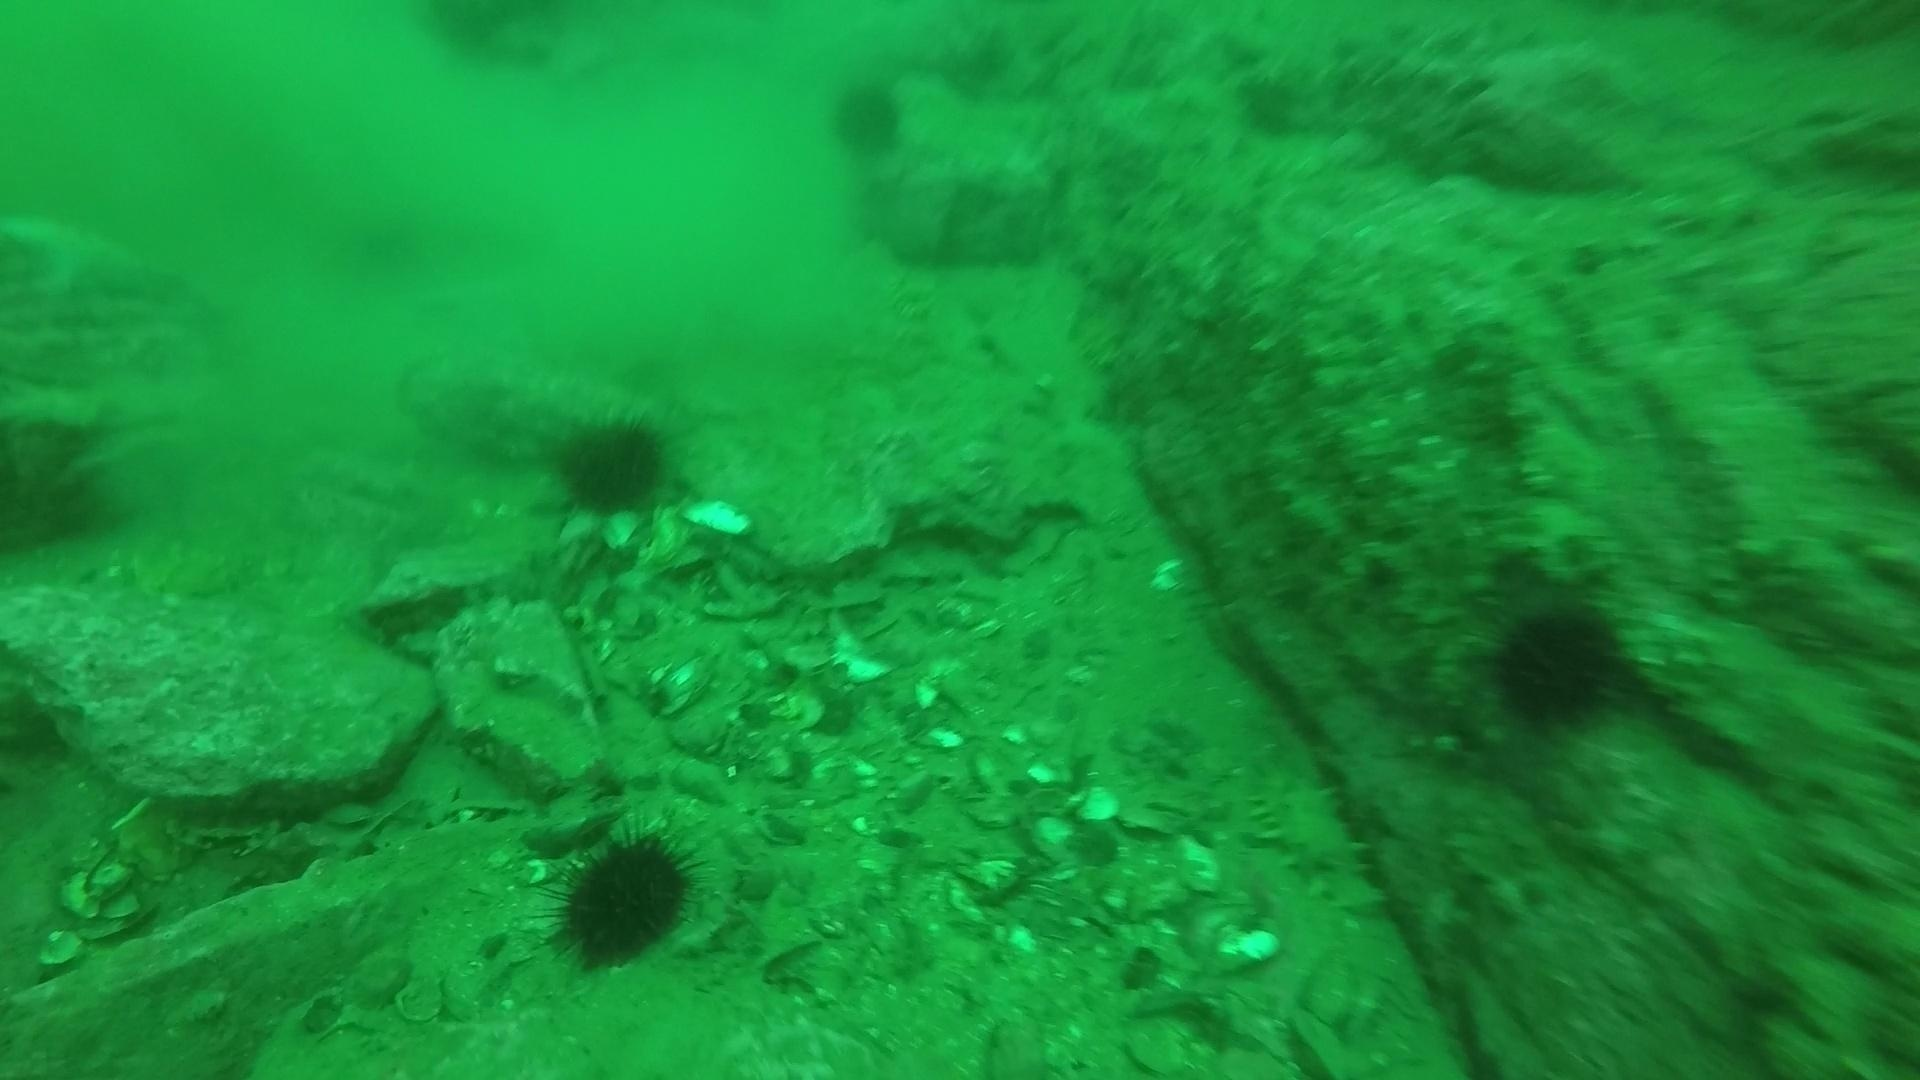echinus: (539, 822, 708, 975), (1484, 597, 1629, 732), (545, 406, 680, 524), (824, 73, 913, 164)
holothurian: (1238, 754, 1389, 918)
starfish: (3, 200, 171, 309)
